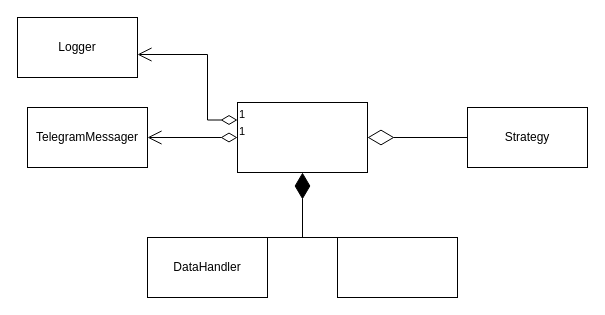
This 605x315 diagram has some shape labels left out. The centre of each missing label's shape, as x and y in pixels:
Complex Event Processing: (302,137)
Market Adapter: (397,267)
